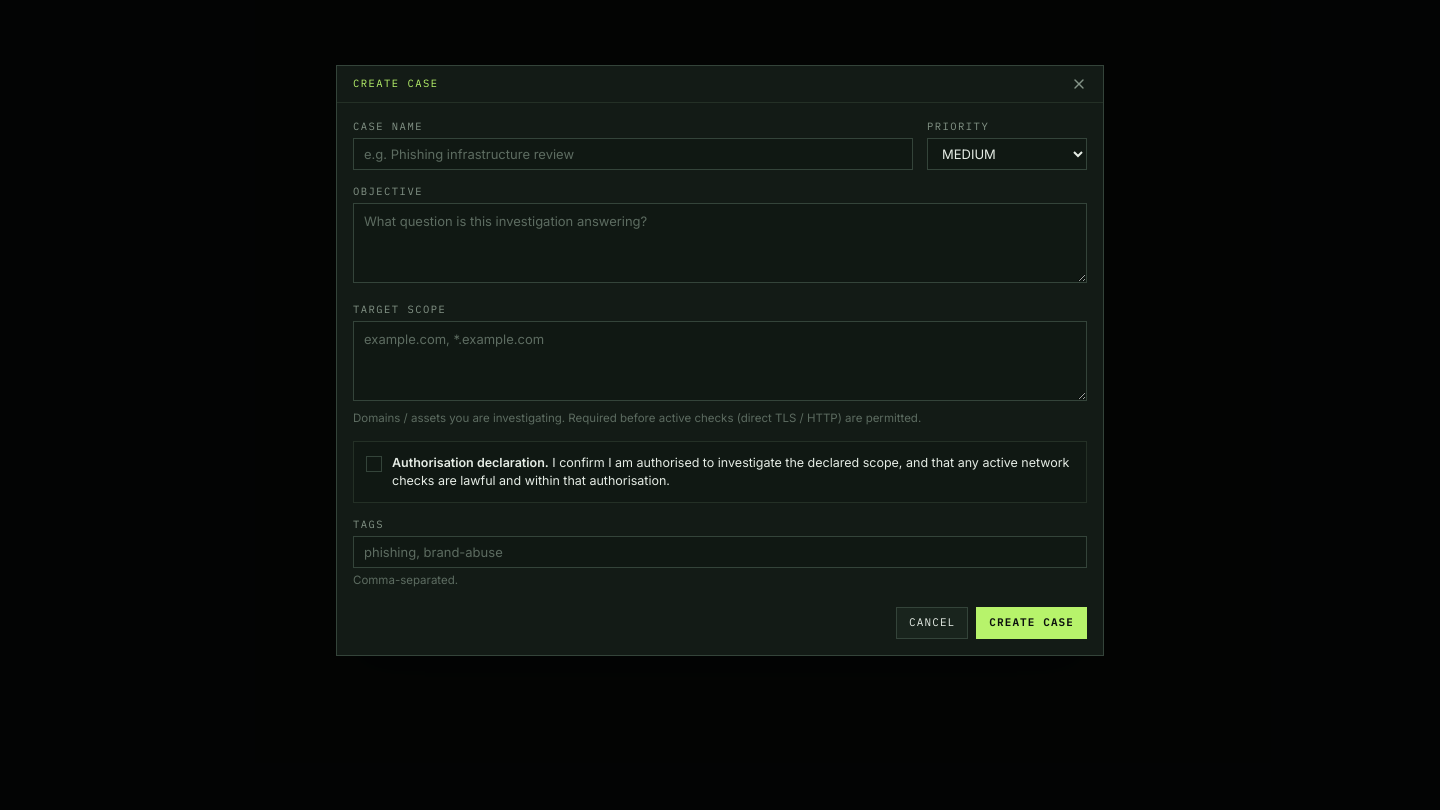
Test case: Case form › refuses to acknowledge authorisation without a declared scope and sends nothing
Type "Valid case name" into the field labelled "Case name" at (633, 154), box [353, 138, 913, 170]
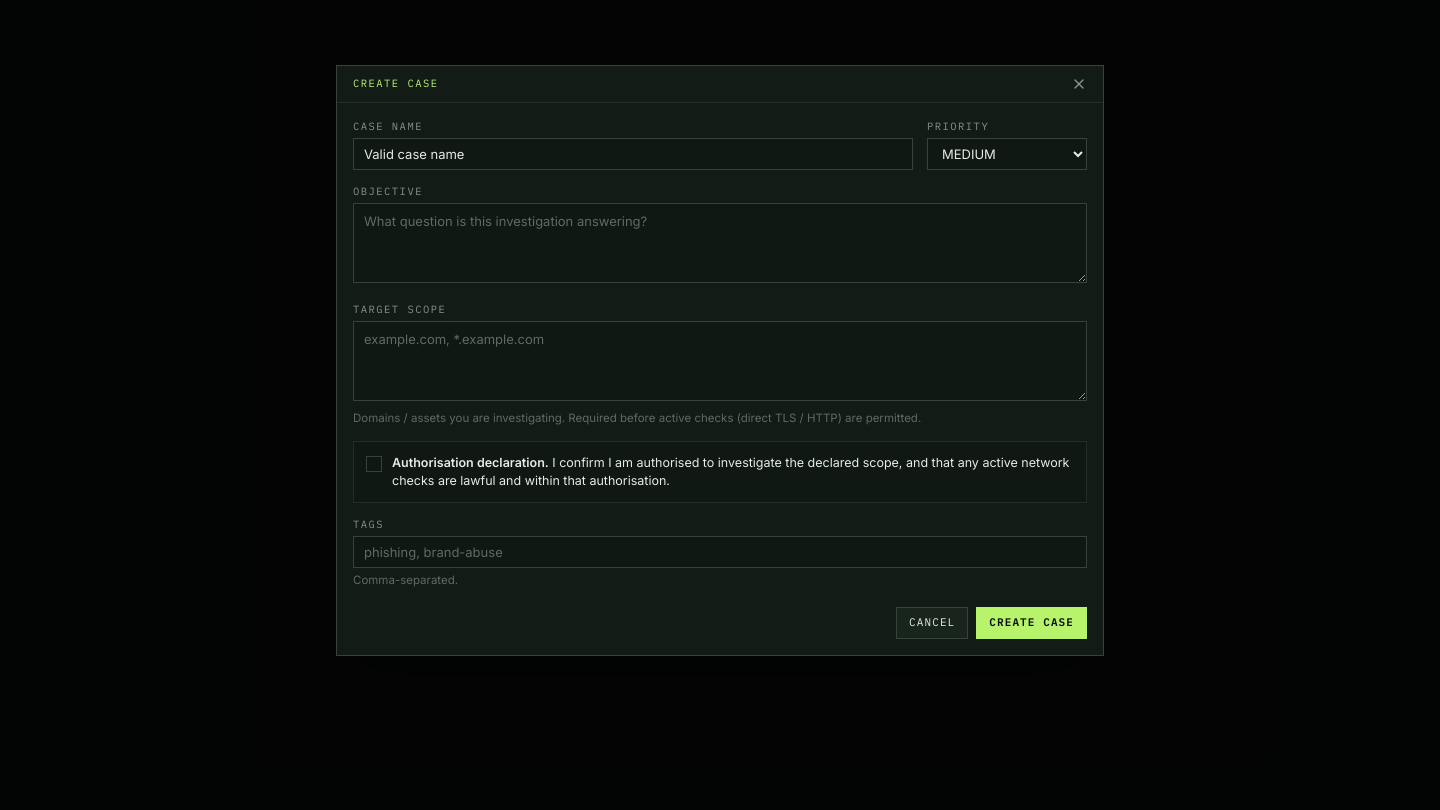
Click the checkbox at (720, 472), box [366, 454, 1074, 490]
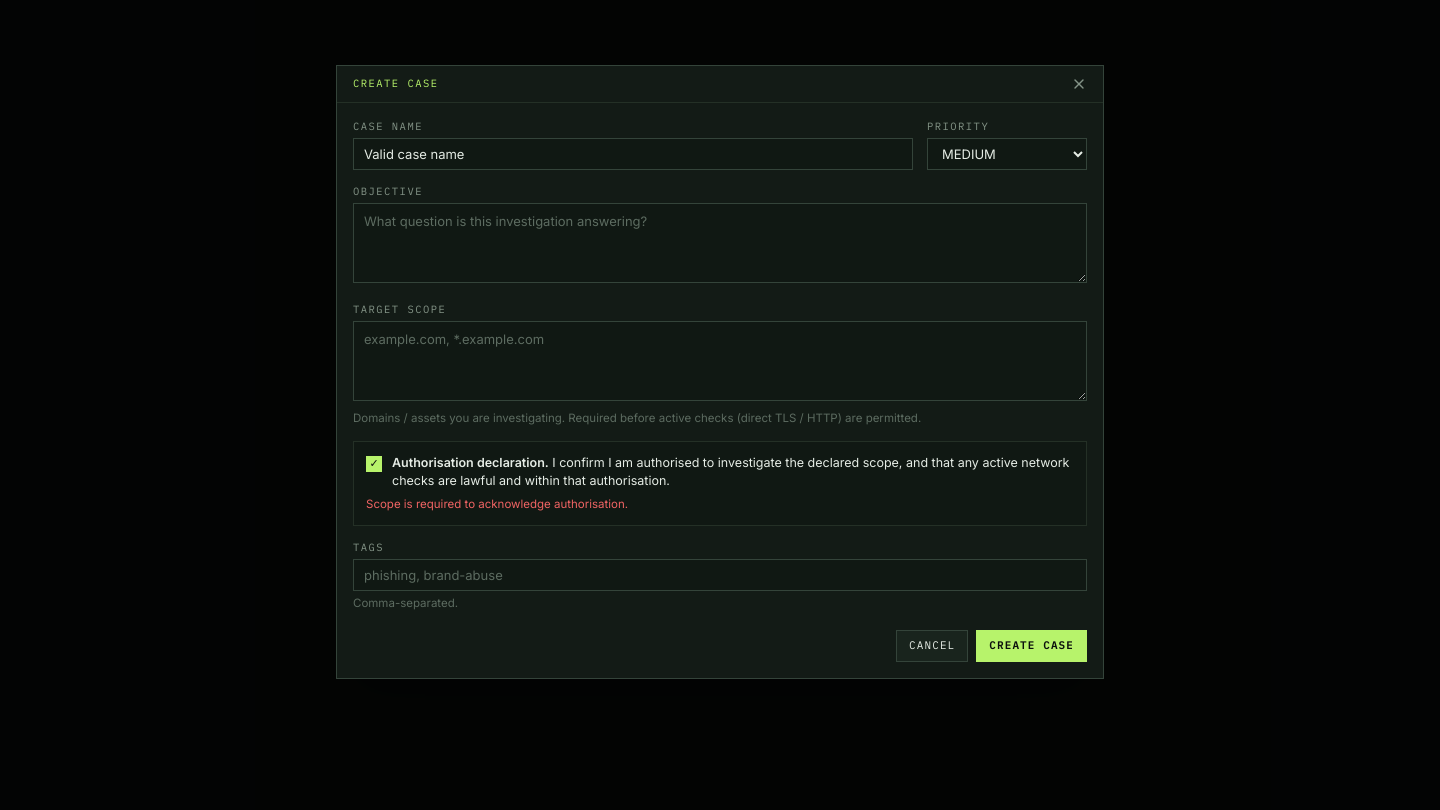
Expected: the message shows "Scope is required", [366, 497, 628, 511]
Click the button "Create case" at (1032, 646), box [976, 630, 1087, 662]
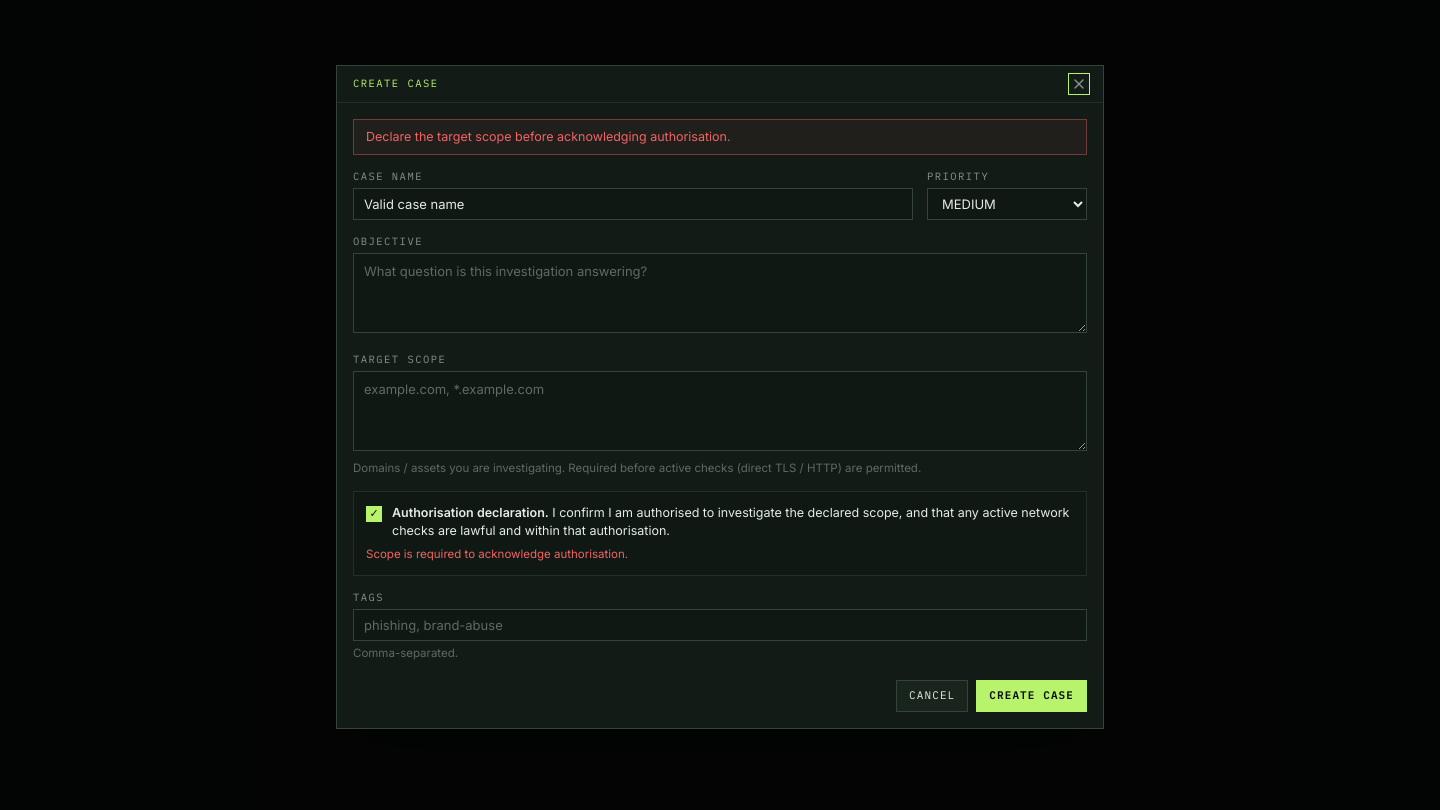
Expected: the message "Declare the target scope before acknowledging authorisation." is shown, [353, 119, 1087, 155]
